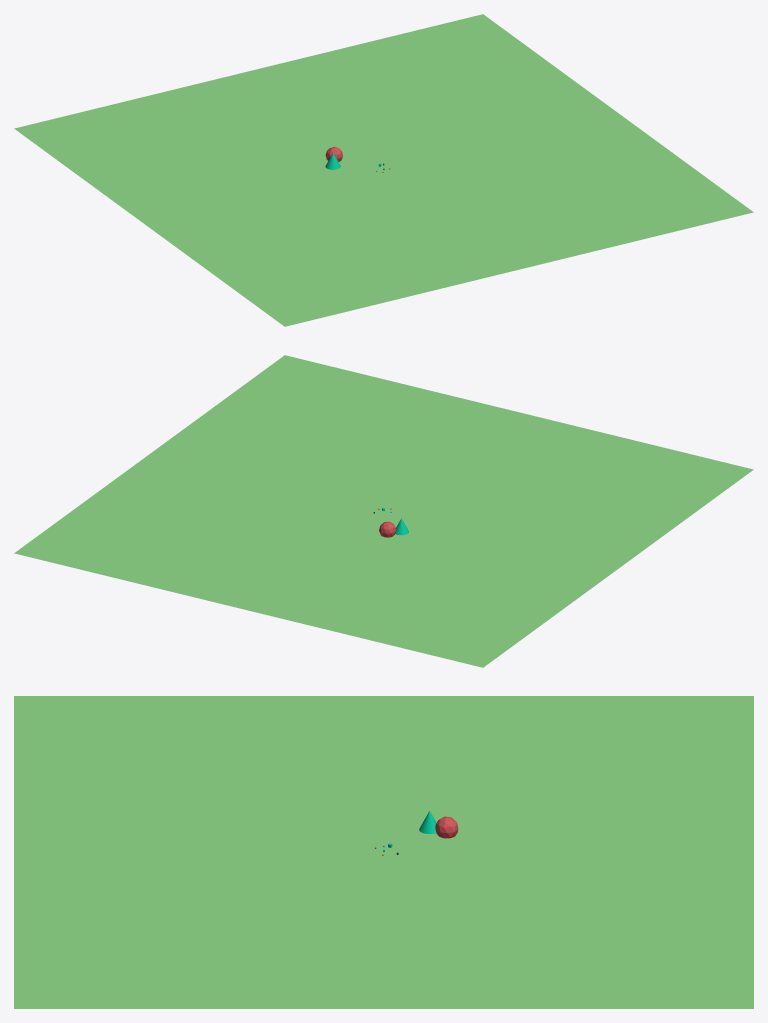
The picture shows the model from 3 angles, top to bottom: view 1: azimuth 30°, elevation 25°; view 2: azimuth 150°, elevation 25°; view 3: azimuth 270°, elevation 25°; orthographic projection. The views are drawn at different scales.
Visible parts, largest first — view 1: Grid; view 2: Grid; view 3: Grid.
Boxes of the visible parts, x1=… form: Grid: x1=14, y1=14, x2=753, y2=326; Grid: x1=14, y1=355, x2=753, y2=667; Grid: x1=14, y1=696, x2=753, y2=1008.
Bounding box in the file's own units: 800 × 800 × 97.86.
